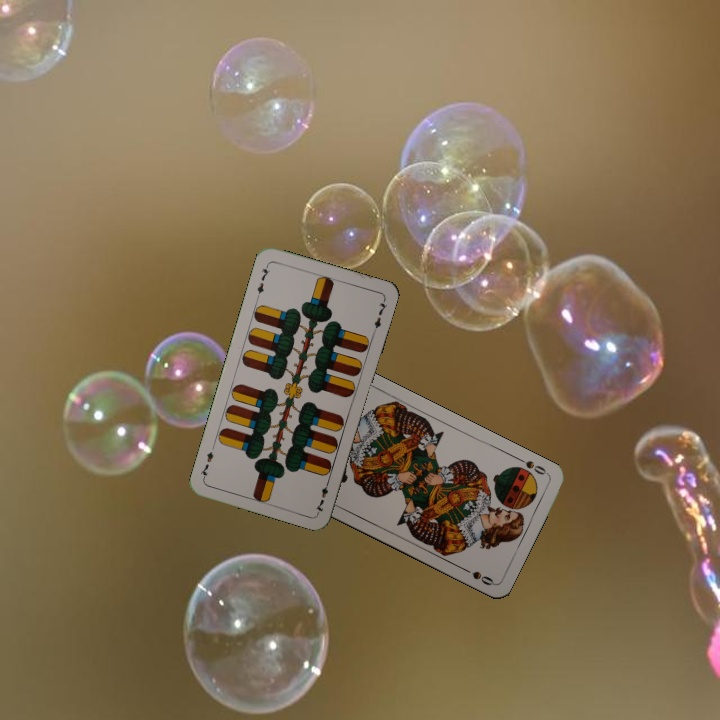E7: (311, 475, 332, 515), (253, 260, 273, 300)
SO: (513, 453, 551, 477)
